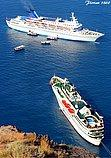Ship: (4, 8, 107, 47)
